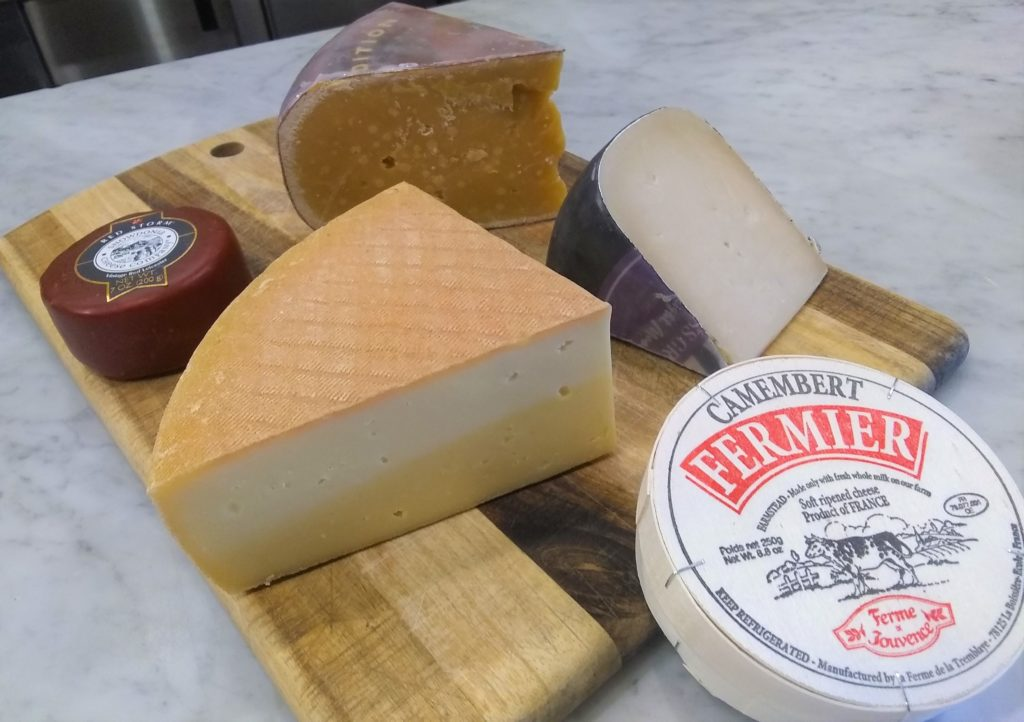cheese: (176, 168, 610, 611), (648, 321, 997, 716), (547, 112, 878, 385), (254, 12, 582, 282)
